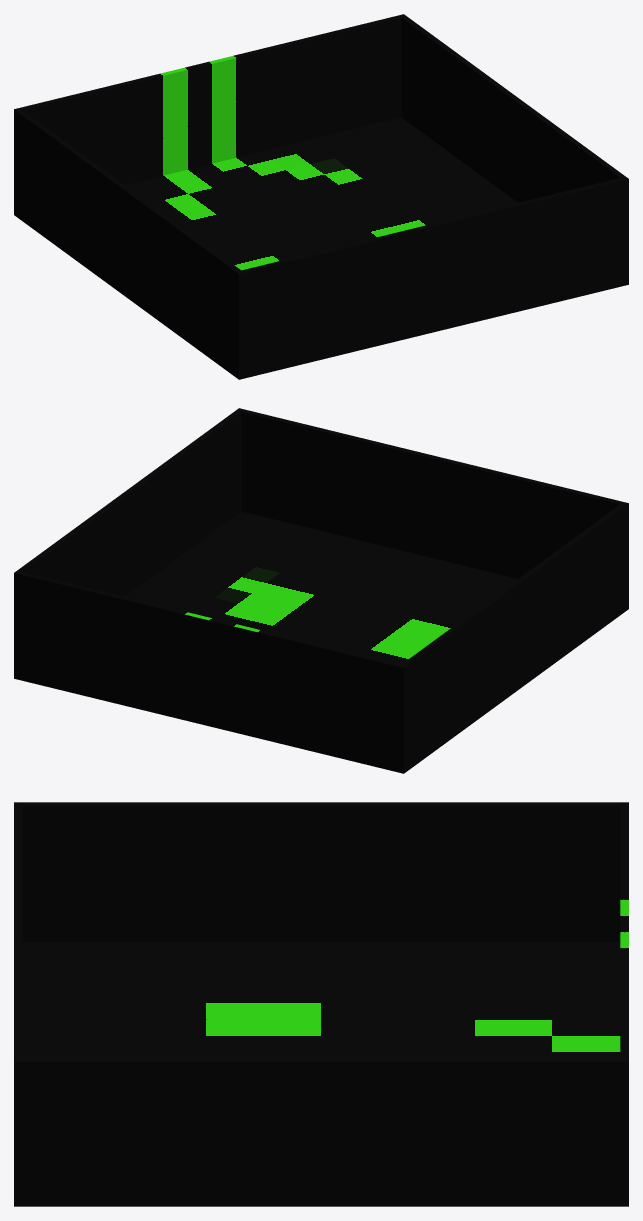
3 views of the same model, one above another, from view 1: azimuth 30°, elevation 25°; view 2: azimuth 150°, elevation 25°; view 3: azimuth 270°, elevation 25° (orthographic). The views are drawn at different scales.
Parts seen in each view (by area): view 1: collision; view 2: collision; view 3: collision.
Part boxes in pixels (box(x1,y1,x2,y2)): collision: box(14, 14, 628, 379); collision: box(14, 408, 628, 773); collision: box(14, 802, 628, 1206).
Size of the model in its own units: 20 by 5.19 by 20.
Materials: 1 (1 with a texture image).
